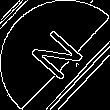N_SE: (21, 23, 89, 87)
